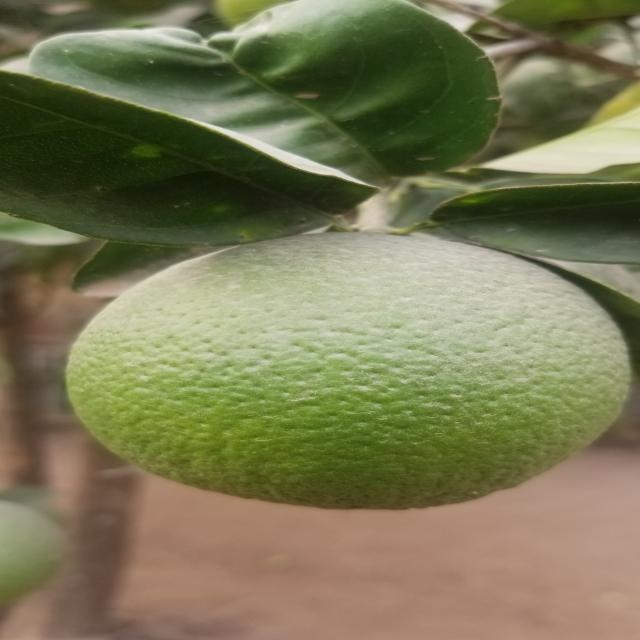agrume: (72, 238, 627, 510)
